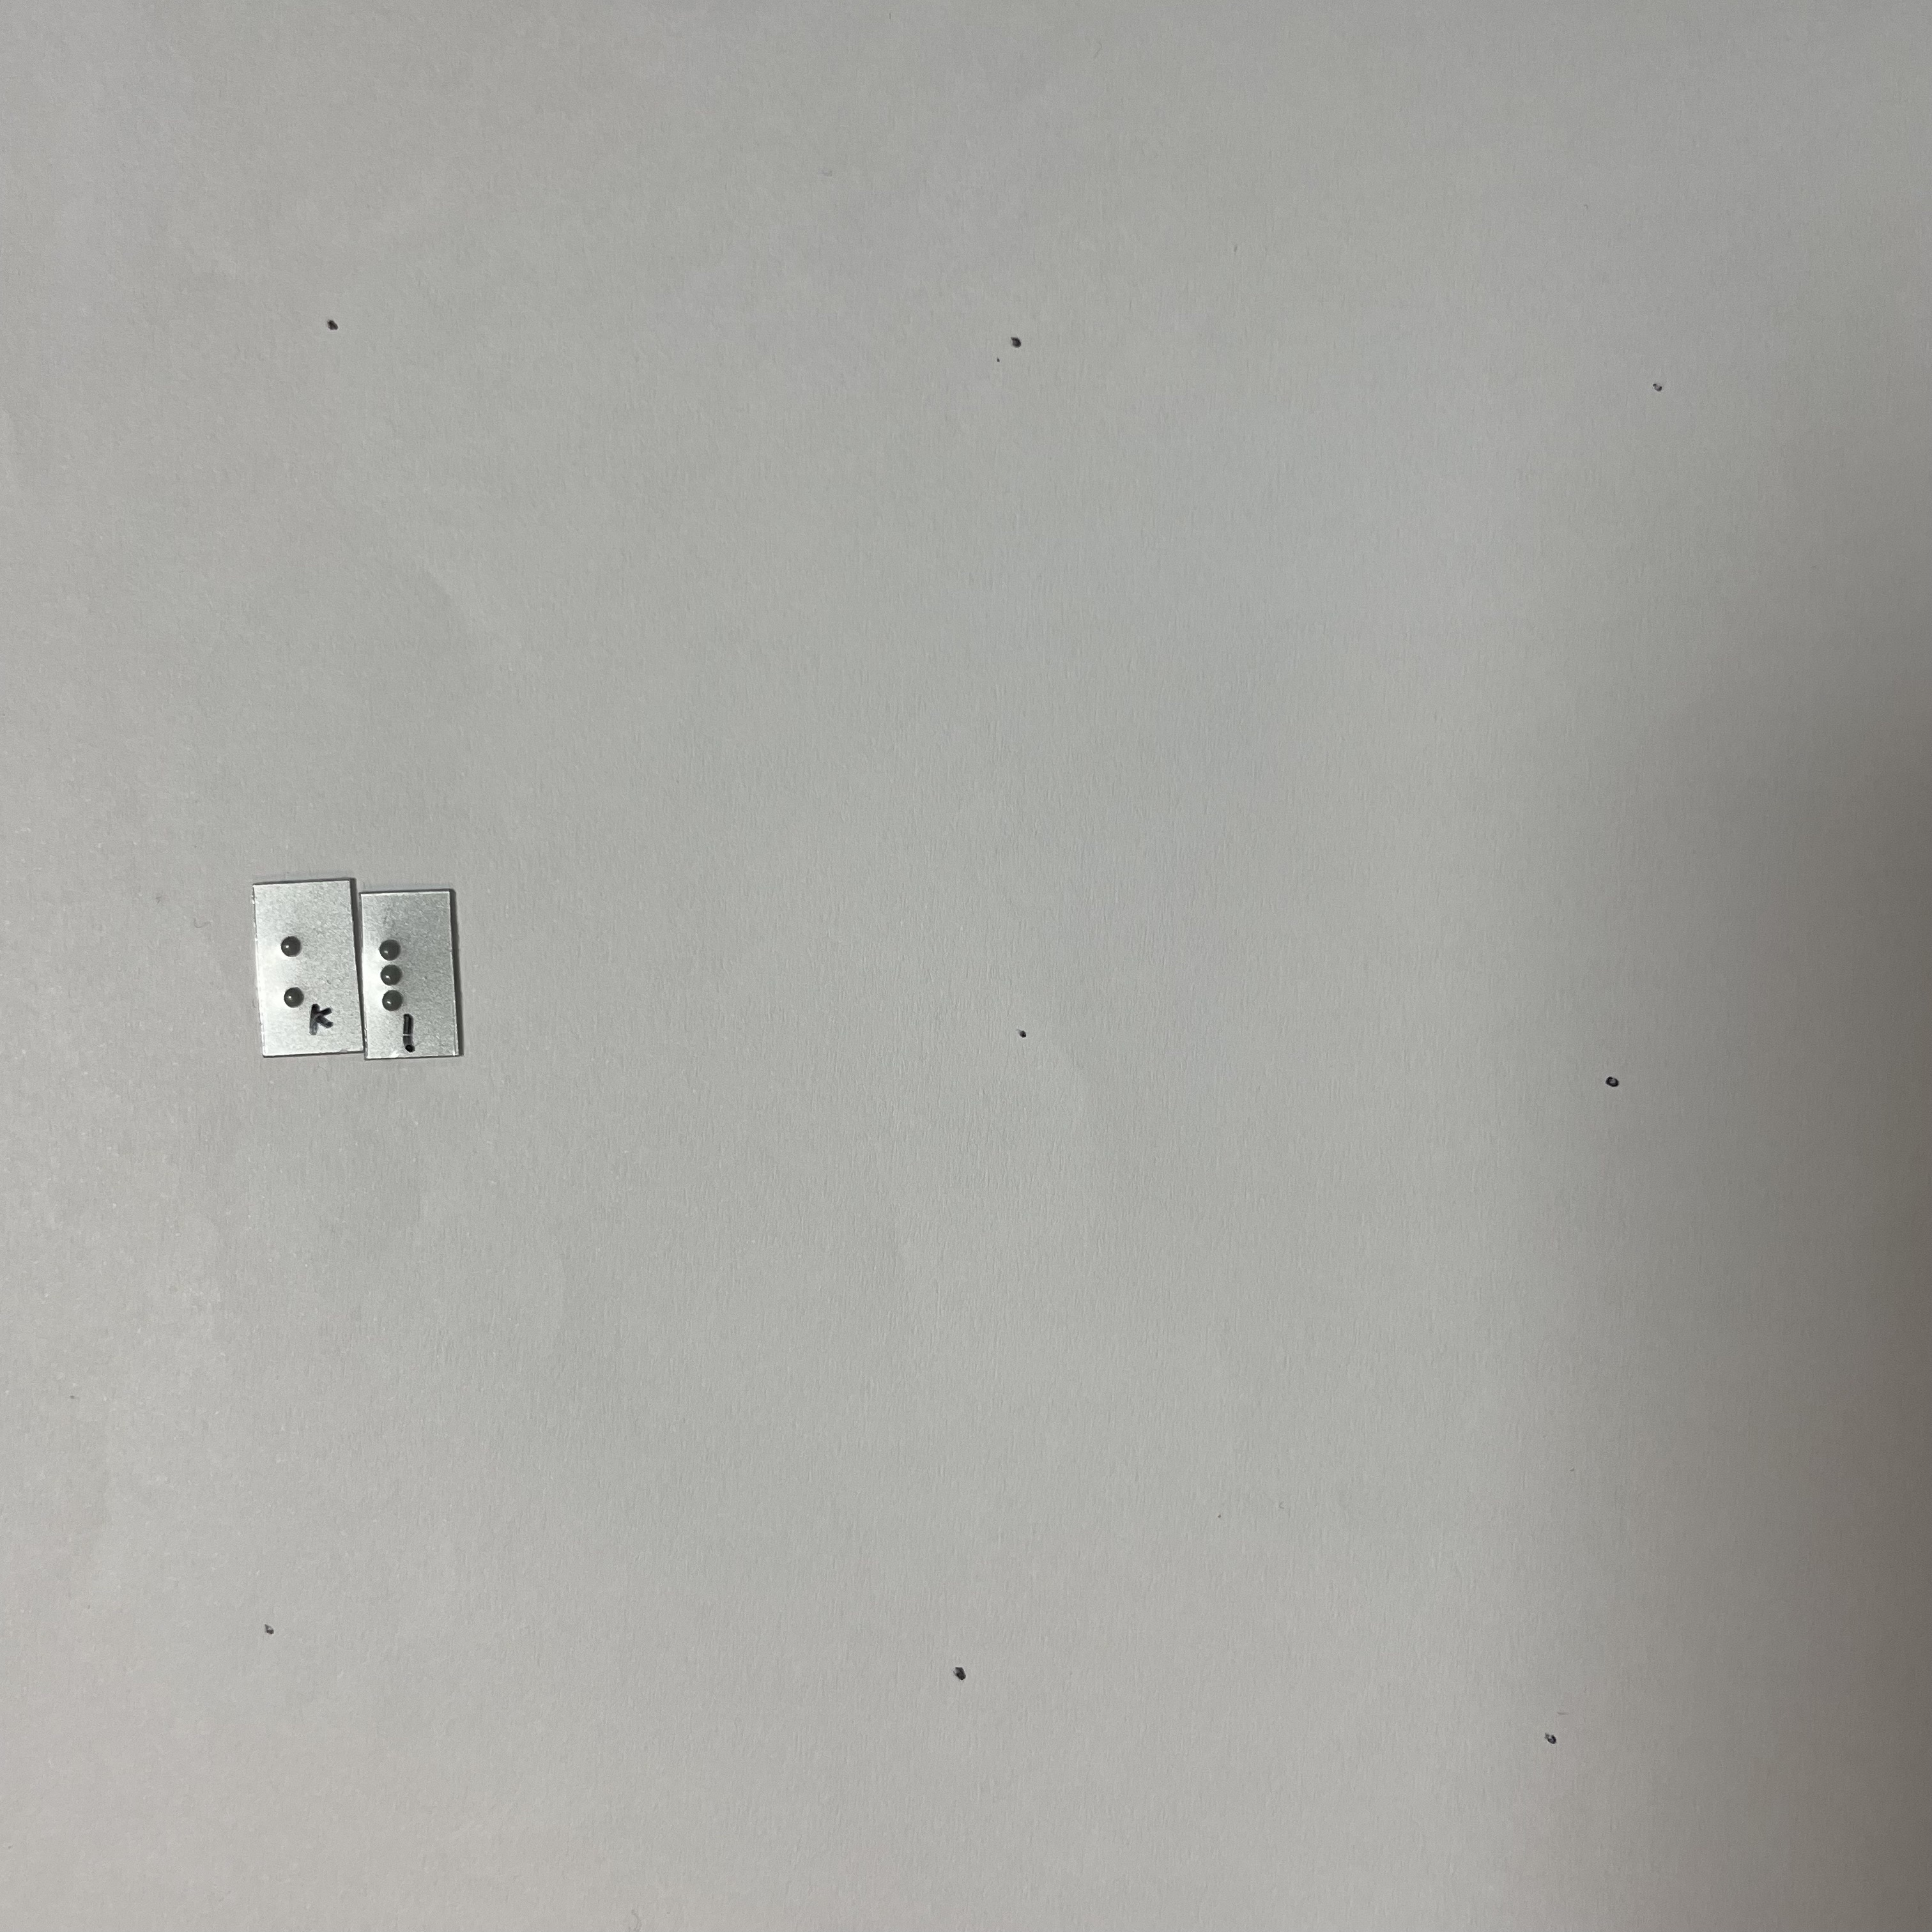k: (272, 926, 339, 1015)
l: (372, 930, 445, 1015)
